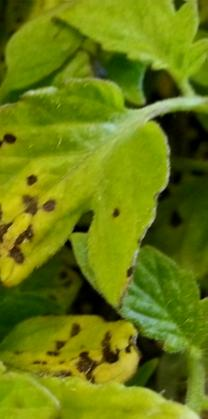Tomato leaf: (45, 0, 208, 75)
Tomato leaf bacterial spot: (0, 74, 190, 302), (0, 306, 160, 387)
